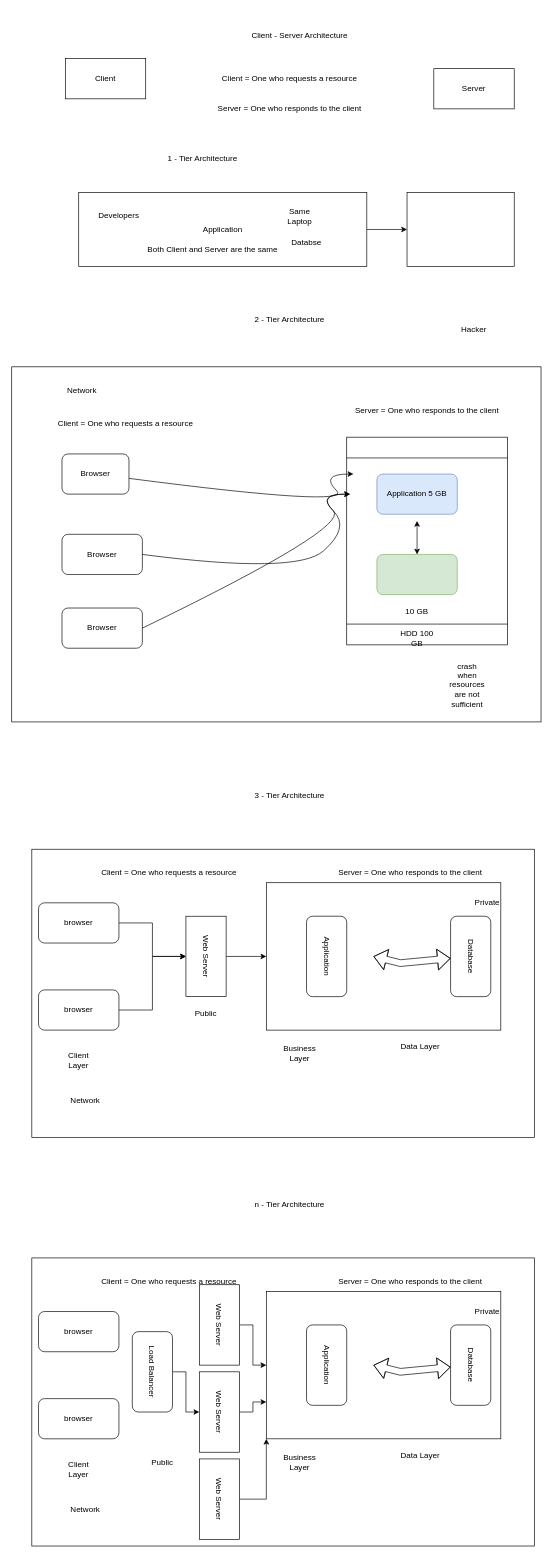
Some shapes in this 553 by 1558 pixel diagram are drawn without their labels. Each missing label, with the box of its shape:
Data Base 5 GB: (376, 554, 457, 595)
Dead: (406, 192, 514, 266)
